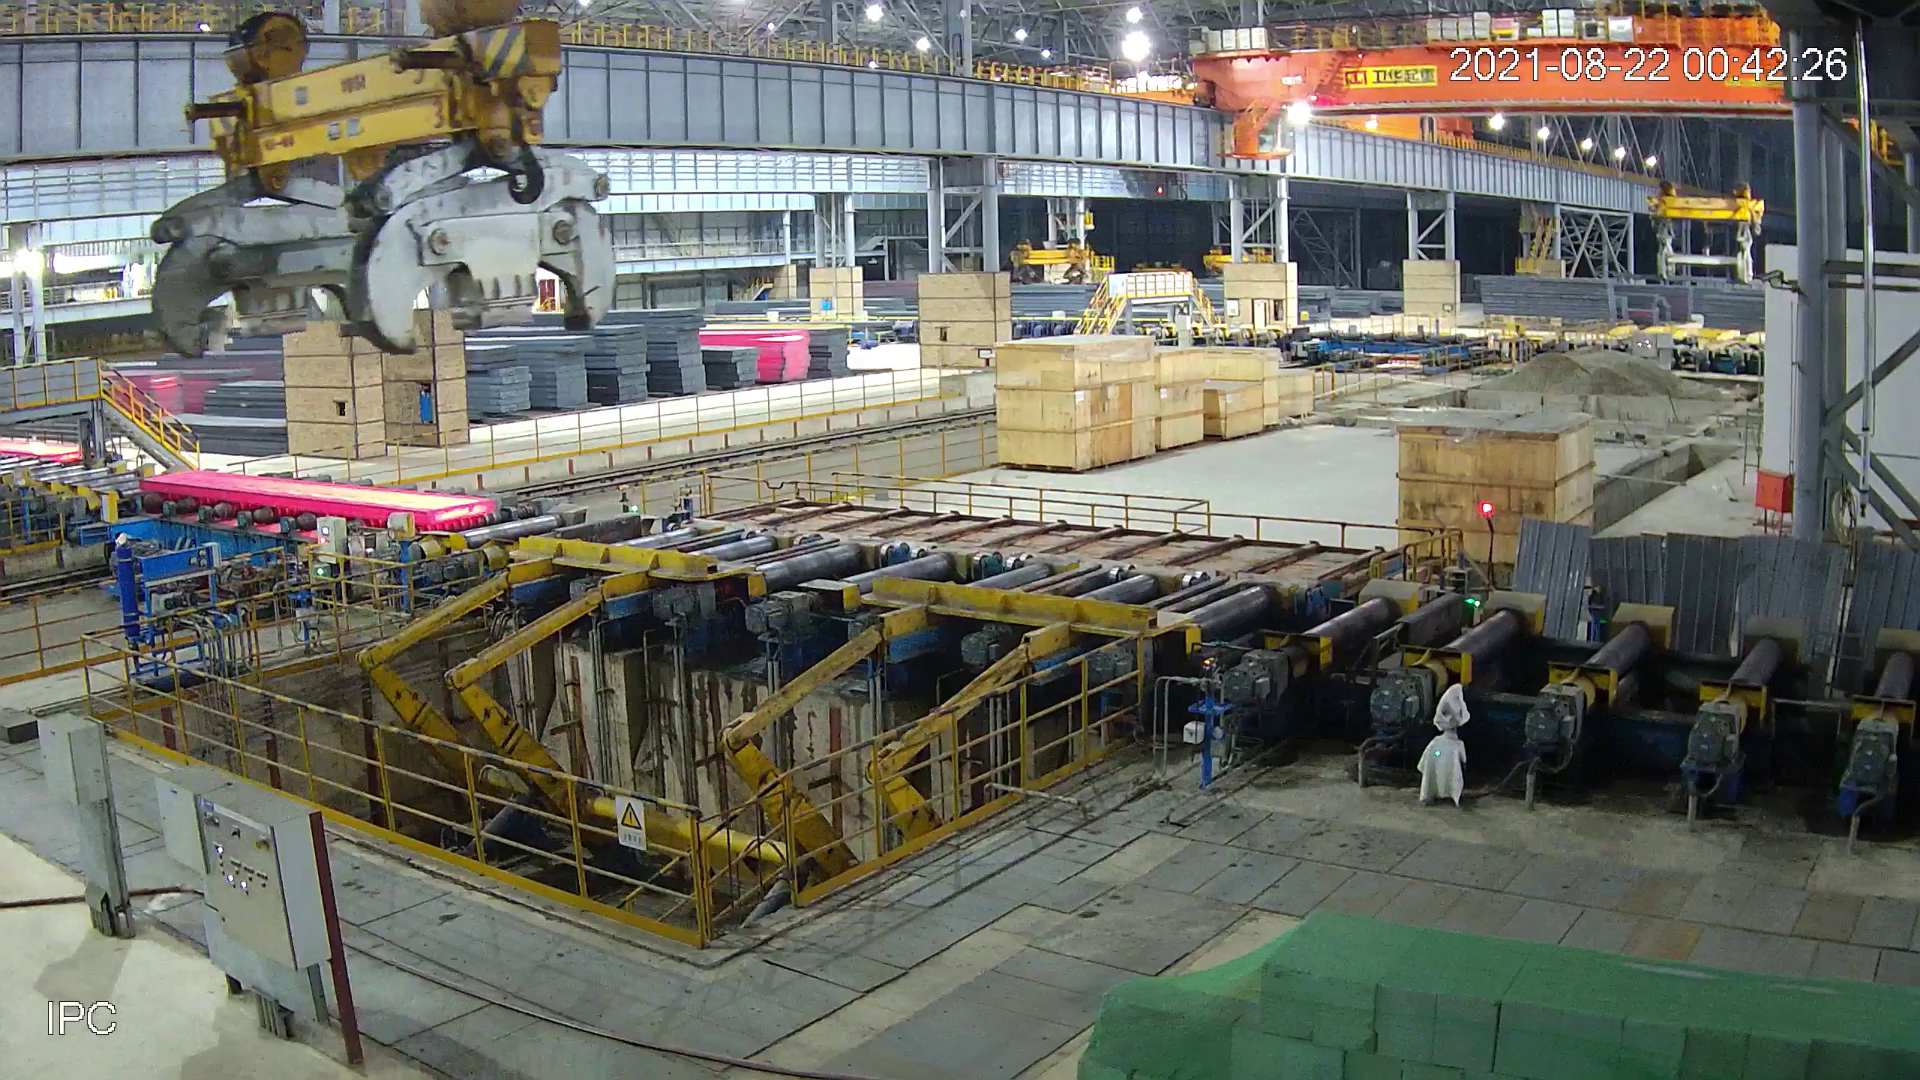crane: (109, 7, 644, 351)
slab: (133, 469, 501, 534)
